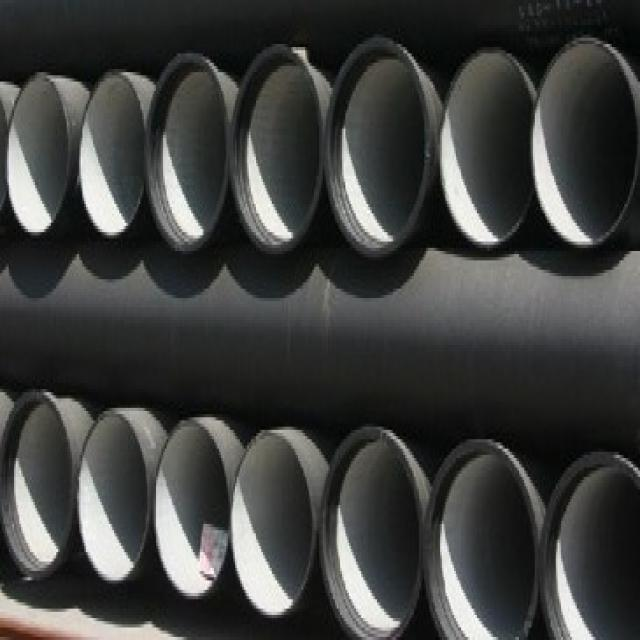pipe: (424, 440, 535, 639), (532, 40, 638, 246), (322, 425, 422, 640), (323, 39, 427, 245), (437, 49, 536, 242), (544, 457, 640, 640), (231, 49, 318, 246), (147, 58, 226, 249), (231, 434, 314, 613), (154, 422, 230, 592), (1, 396, 72, 577), (79, 414, 147, 580), (79, 72, 146, 235), (6, 75, 70, 226)
